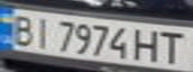4: (109, 24, 133, 60)
7: (87, 23, 112, 57), (51, 18, 75, 53)
9: (72, 20, 93, 55)
B: (6, 11, 39, 46)
H: (133, 26, 163, 63)
I: (30, 15, 57, 49)
T: (157, 28, 190, 64)
